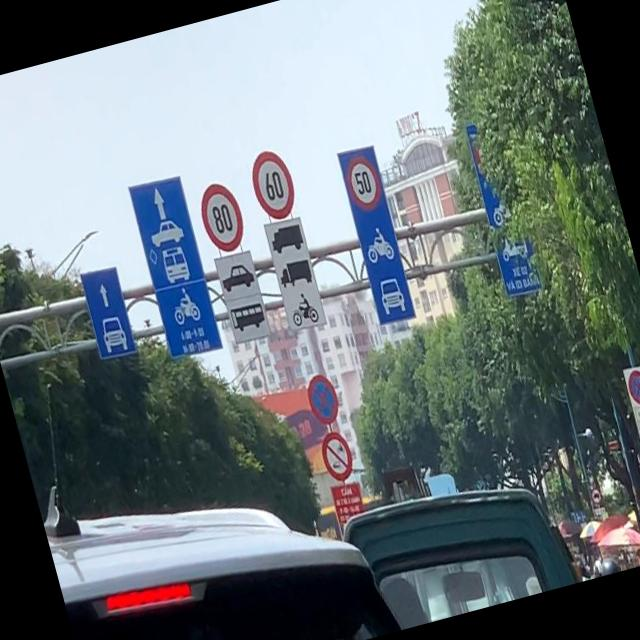P-127: (243, 144, 300, 223), (194, 178, 250, 255)
P-130: (302, 368, 344, 428)
